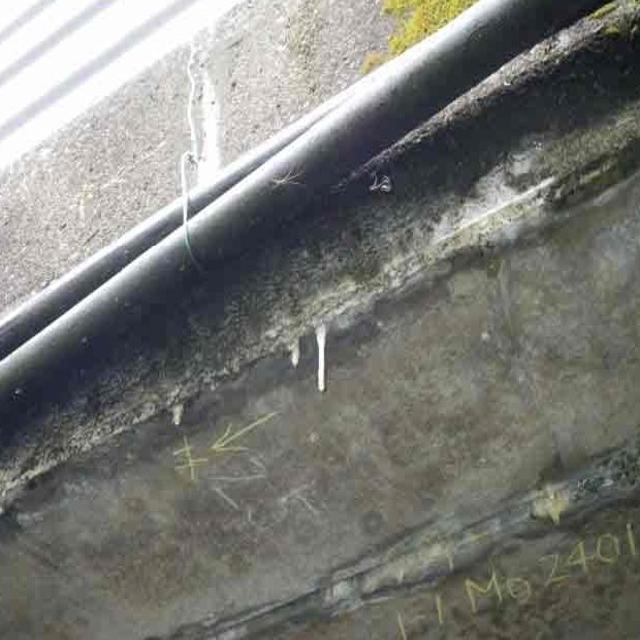freelime: (424, 162, 562, 242), (177, 60, 234, 210)
